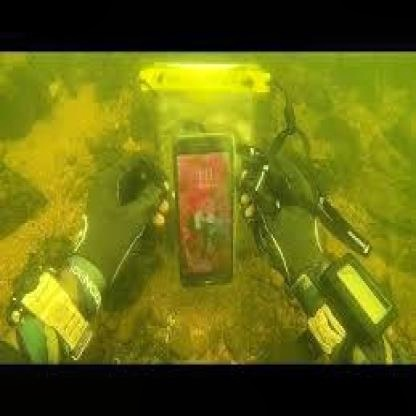cellphone: (172, 126, 238, 290)
